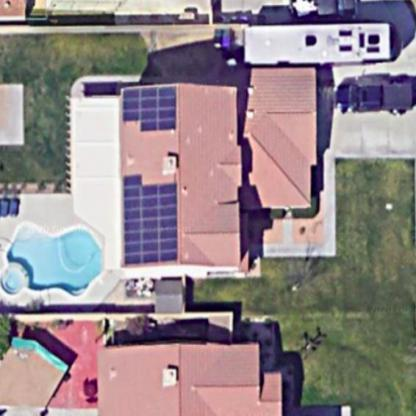car: (236, 15, 402, 67), (333, 76, 416, 116)
solar_panel: (121, 162, 186, 267), (116, 79, 185, 140)
swimming_pool: (9, 211, 115, 303)
